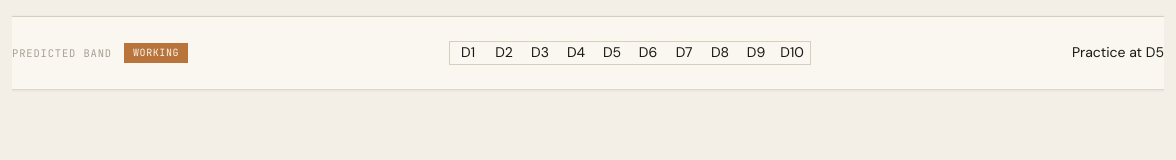
it: StickyDifficultyBar › clicking a difficulty updates band display + CTA
Click the button with test id "difficulty-D8" at (720, 53), box [702,42,738,64]
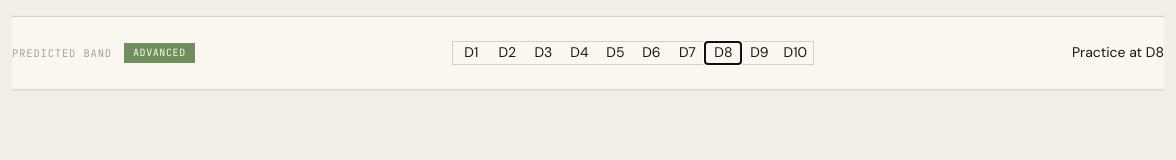
Expected: the button with test id "sticky-start-cta" reads "Practice at D8", [1072,33,1164,73]
Expected: the text "Advanced" is shown, [124,43,195,63]
